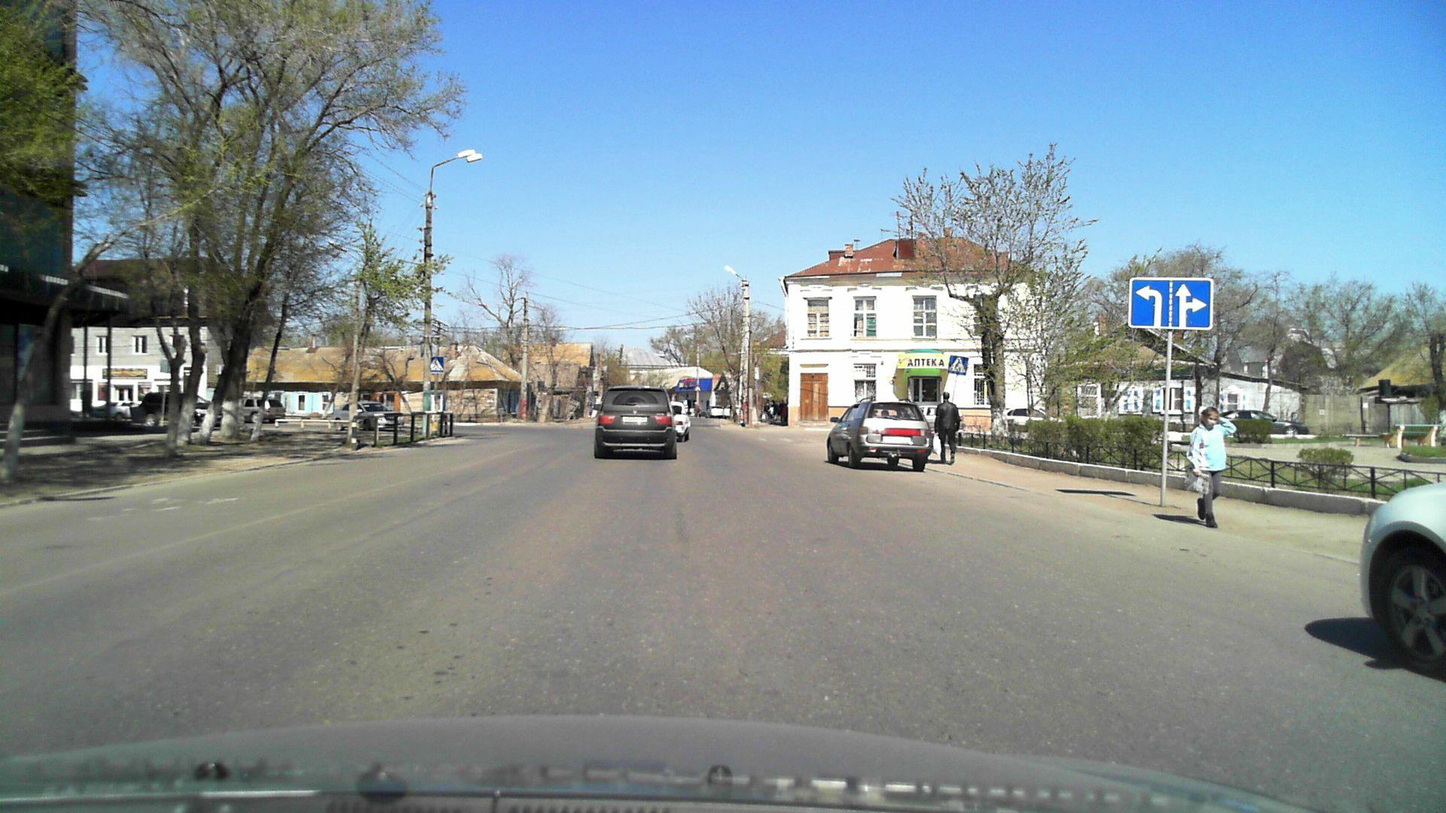road_sign: (1129, 278, 1213, 330)
